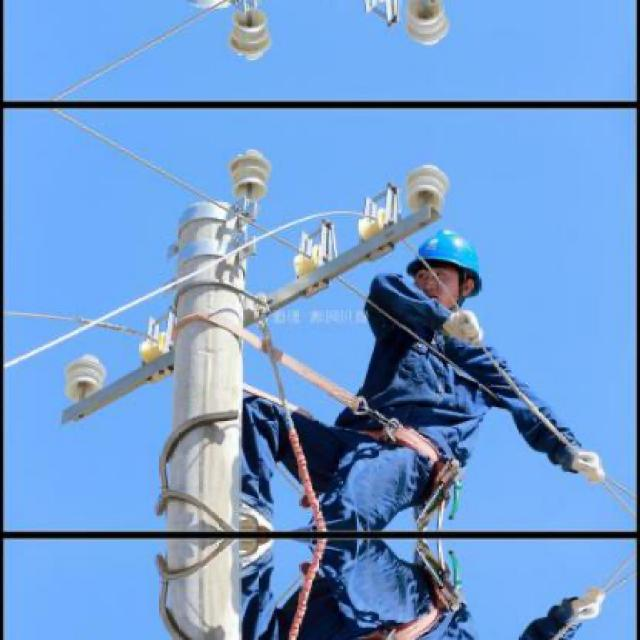helmet: (406, 221, 485, 310)
